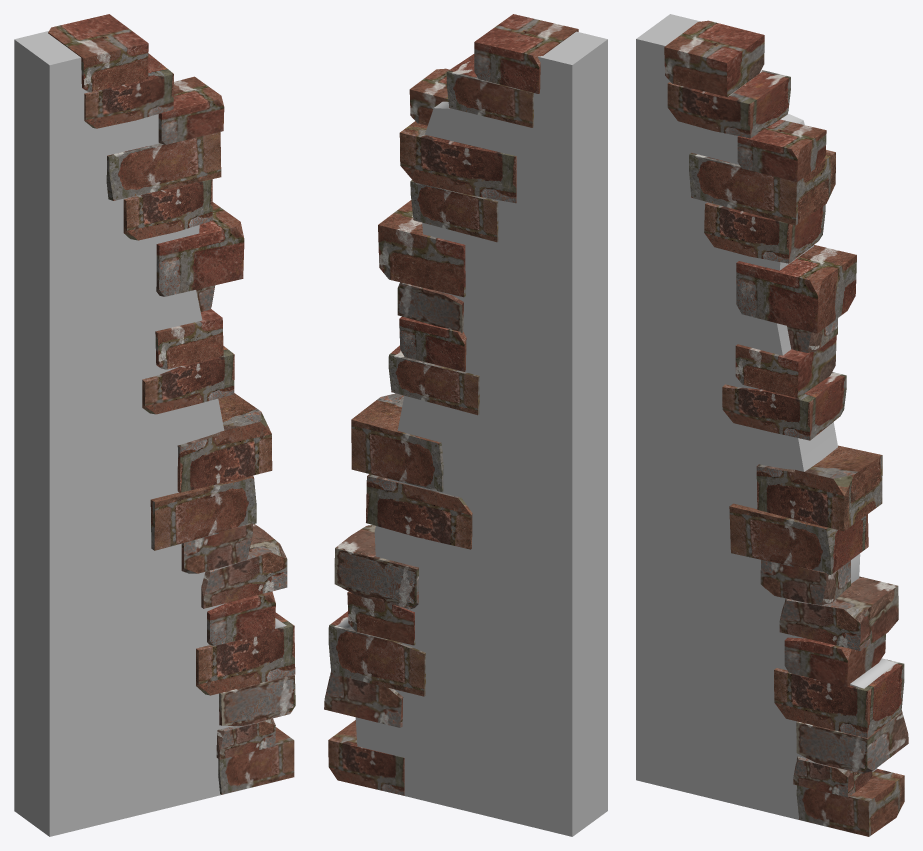
Rendered from SM_Wall_Ruined_11.fbx.
3 views of the same model, side by side, from view 1: azimuth 30°, elevation 25°; view 2: azimuth 150°, elevation 25°; view 3: azimuth 330°, elevation 25° (orthographic). The views are drawn at different scales.
Visible parts, largest first — view 1: SM_Wall_Ruined_11_LOD0; view 2: SM_Wall_Ruined_11_LOD0; view 3: SM_Wall_Ruined_11_LOD0.
Part boxes in pixels (left/top/right/bottom): SM_Wall_Ruined_11_LOD0: left=14, top=14, right=295, bottom=836; SM_Wall_Ruined_11_LOD0: left=324, top=14, right=607, bottom=836; SM_Wall_Ruined_11_LOD0: left=636, top=14, right=908, bottom=836.
Size of what is drawn, in the model's own units: 200 by 601 by 62.12.
